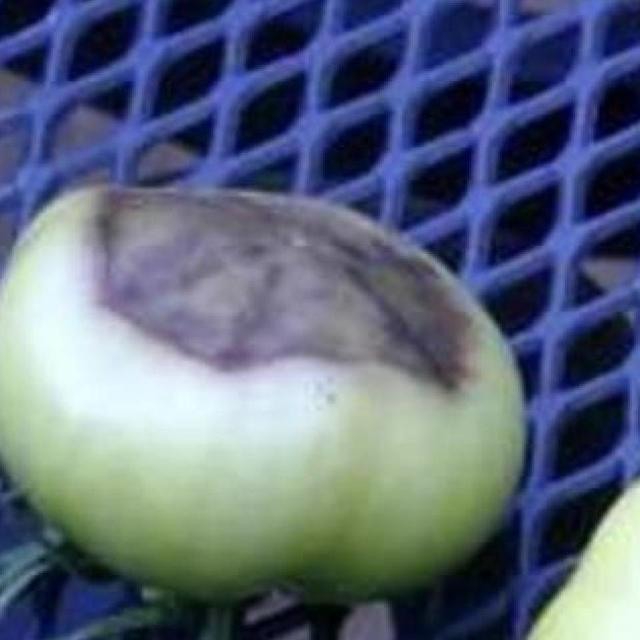Blossom End Rot Fruit: (60, 124, 315, 260)
